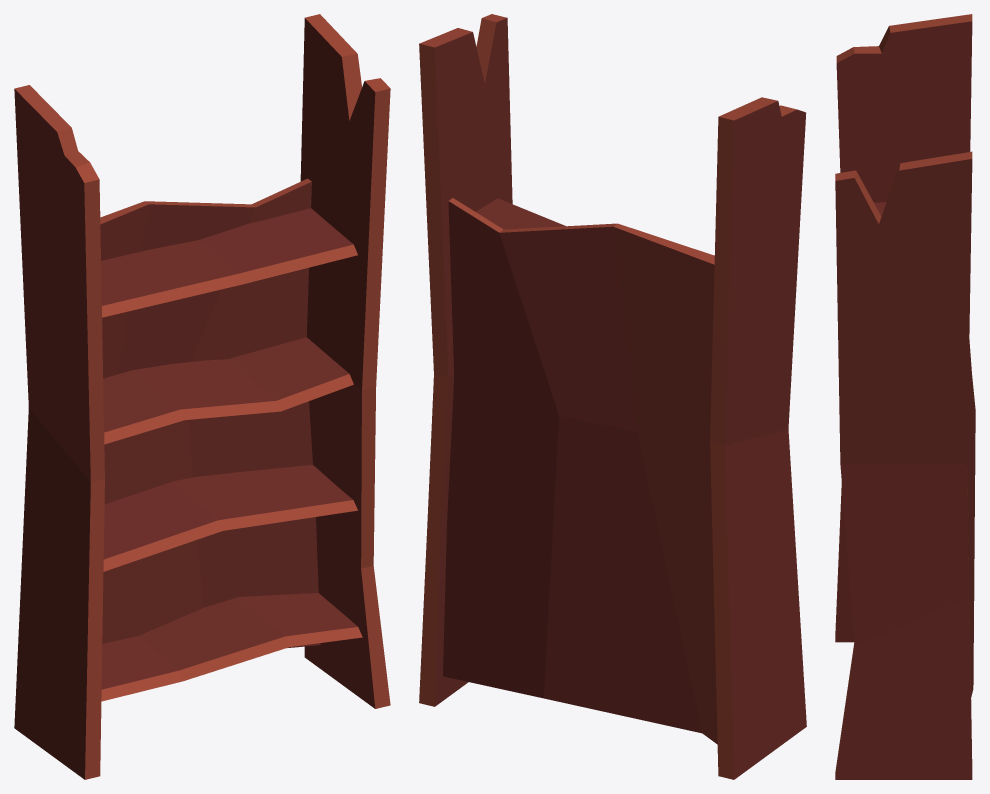
The model's file is Shelf_3_Red.fbx.
3 renders of one model, left to right at view 1: azimuth 30°, elevation 25°; view 2: azimuth 150°, elevation 25°; view 3: azimuth 270°, elevation 25°, orthographic. The views are drawn at different scales.
Visible parts, largest first — view 1: Shelf_3_Red_Part_1, Shelf_3_Red_Part_2; view 2: Shelf_3_Red_Part_1, Shelf_3_Red_Part_2; view 3: Shelf_3_Red_Part_1, Shelf_3_Red_Part_2.
Part boxes in pixels (box(x1,y1,x2,y2)): Shelf_3_Red_Part_1: box(14, 18, 375, 779); Shelf_3_Red_Part_2: box(14, 14, 390, 779); Shelf_3_Red_Part_1: box(435, 18, 806, 779); Shelf_3_Red_Part_2: box(419, 14, 796, 779); Shelf_3_Red_Part_1: box(835, 21, 975, 779); Shelf_3_Red_Part_2: box(835, 14, 972, 778).
Bounding box in the file's own units: 100 × 200 × 40.96.
